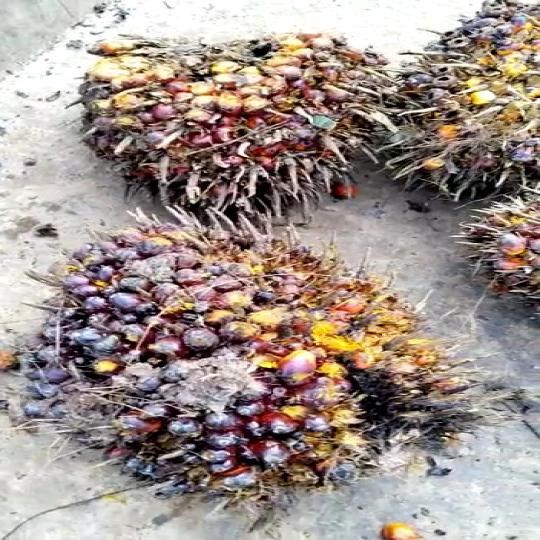masak: (18, 226, 473, 526), (56, 28, 400, 230)
